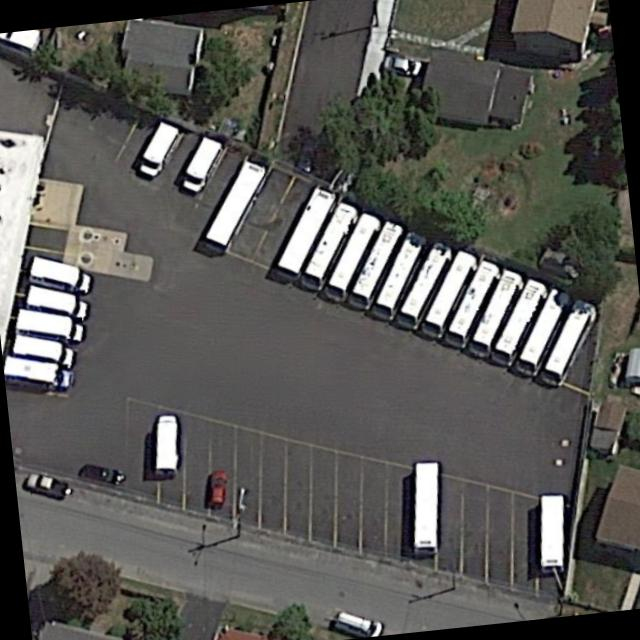large-vehicle: (510, 284, 576, 375), (535, 295, 600, 385), (203, 156, 270, 243), (345, 218, 409, 309), (367, 230, 429, 322), (321, 210, 384, 300), (463, 266, 526, 355), (440, 258, 503, 346), (275, 184, 338, 271), (417, 249, 480, 336), (487, 277, 549, 365), (395, 240, 452, 328), (303, 198, 359, 276), (414, 458, 440, 557), (538, 491, 565, 569)
small-vehicle: (24, 254, 98, 295), (132, 118, 183, 177), (177, 132, 225, 192), (13, 305, 85, 344), (5, 355, 74, 391), (22, 283, 89, 320), (11, 331, 79, 366), (153, 412, 179, 475), (21, 471, 73, 500), (332, 608, 382, 636), (77, 459, 128, 485), (379, 53, 426, 76), (204, 466, 227, 509)
